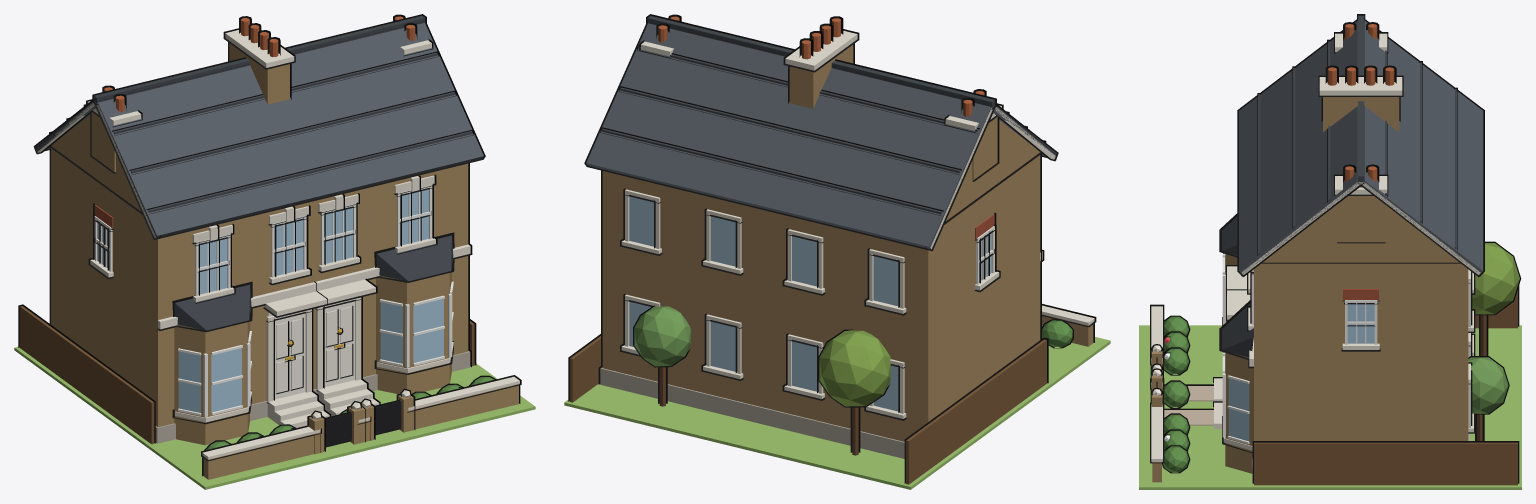
Rendered from MustakilEv_londra_kulube_5.fbx.
The picture shows the model from 3 angles, left to right: view 1: azimuth 30°, elevation 25°; view 2: azimuth 150°, elevation 25°; view 3: azimuth 270°, elevation 25°; orthographic projection. The views are drawn at different scales.
Visible parts, largest first — view 1: MustakilEv_londra_kulube_5; view 2: MustakilEv_londra_kulube_5; view 3: MustakilEv_londra_kulube_5.
Part boxes in pixels (bbox=[...]): MustakilEv_londra_kulube_5: bbox=[14, 14, 535, 489]; MustakilEv_londra_kulube_5: bbox=[564, 14, 1110, 489]; MustakilEv_londra_kulube_5: bbox=[1139, 14, 1521, 489].
Bounding box in the file's own units: 10 × 9.82 × 10.
